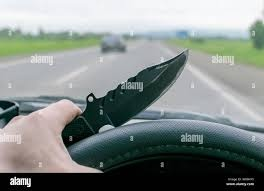knife: (62, 48, 189, 145)
